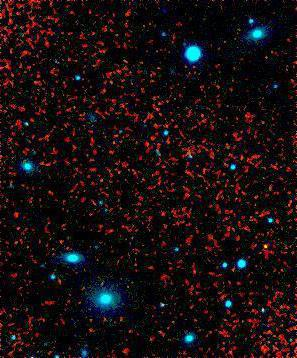star: (253, 230, 283, 260)
